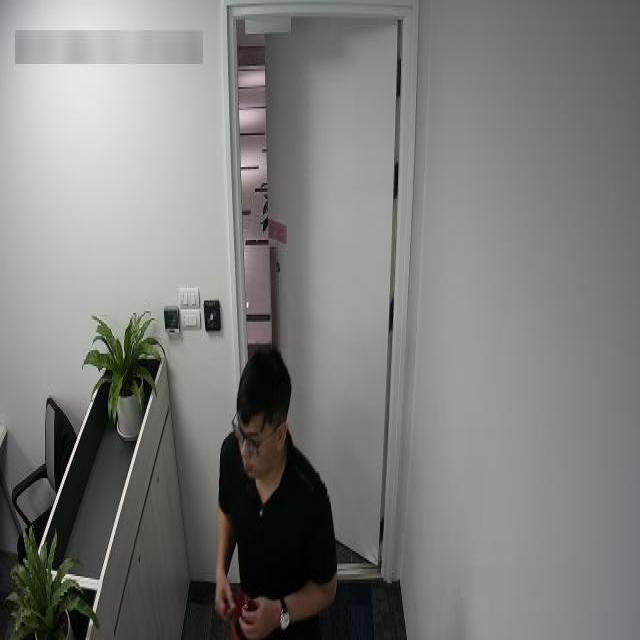bare_hand: (239, 580, 293, 640), (211, 555, 240, 629)
